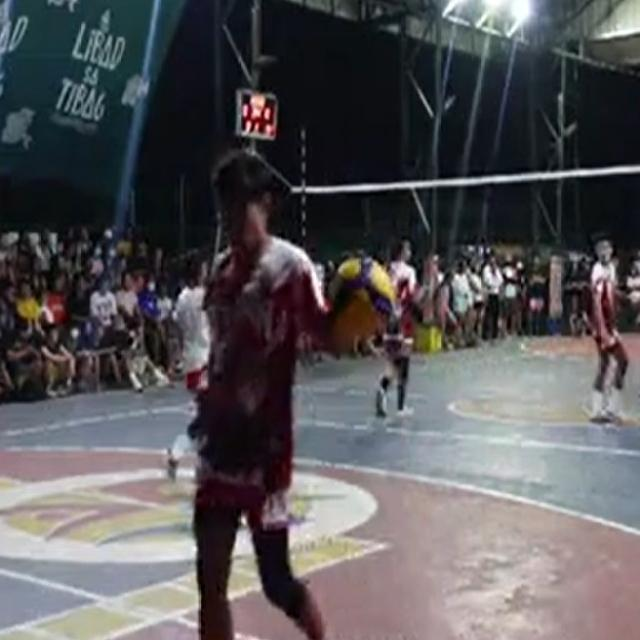volleyball: (324, 256, 393, 346)
